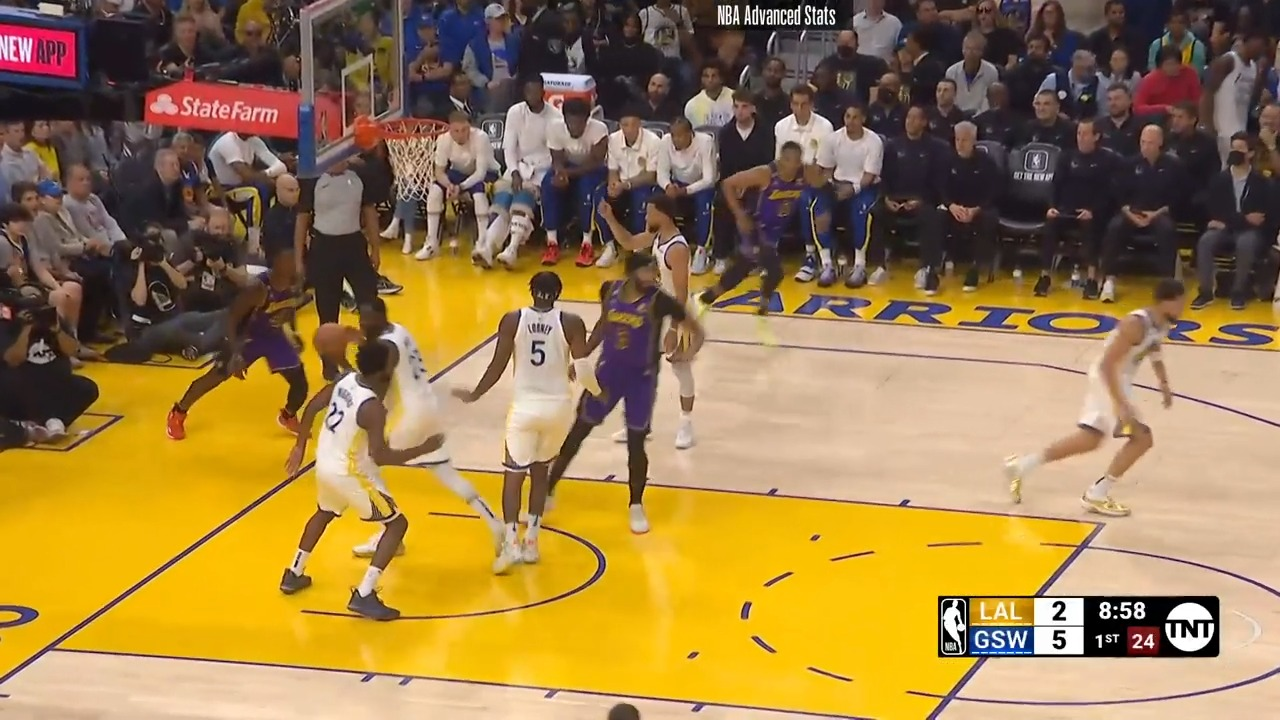net: (363, 109, 456, 193)
player: (1013, 280, 1201, 528), (515, 256, 668, 558), (456, 266, 602, 574), (281, 340, 416, 620), (167, 243, 328, 448), (334, 297, 443, 572), (641, 194, 718, 457)
referee: (298, 135, 403, 345)
